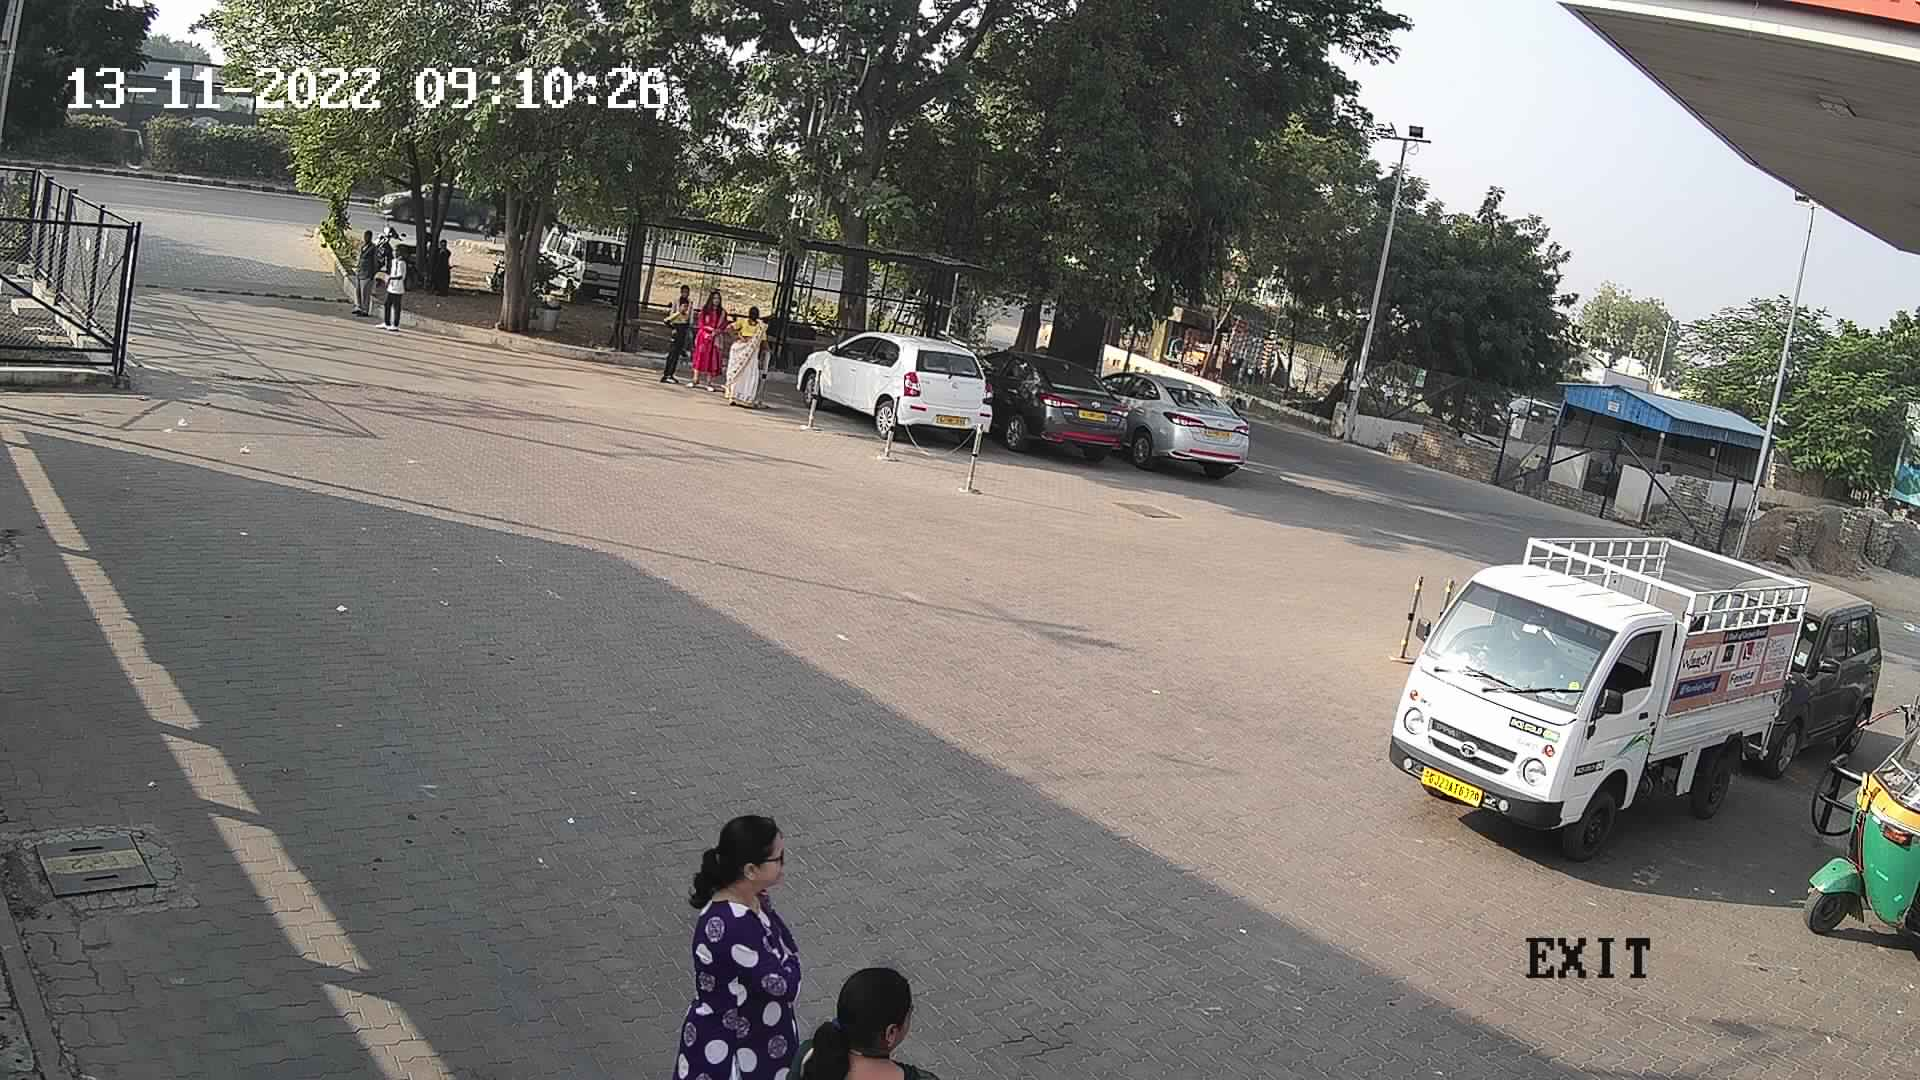Auto: (1797, 703, 1920, 992)
Bike: (356, 212, 425, 297)
Car: (1382, 527, 1820, 869), (1687, 566, 1894, 782), (785, 324, 1010, 455), (971, 338, 1141, 476), (1089, 361, 1251, 480), (363, 166, 495, 243), (533, 212, 634, 307)
